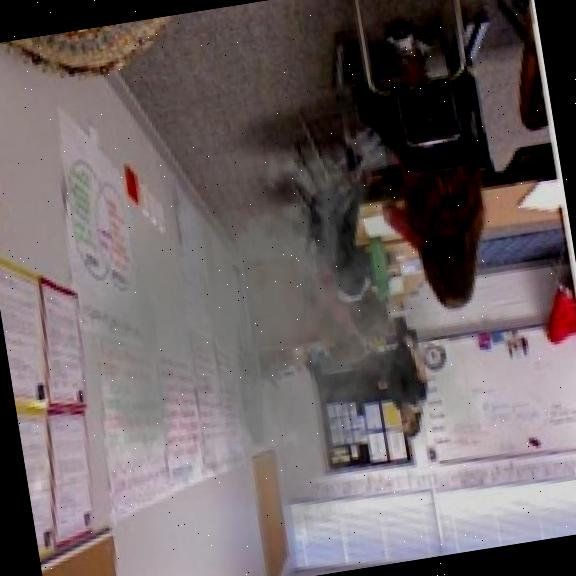smoke: (47, 102, 497, 576)
